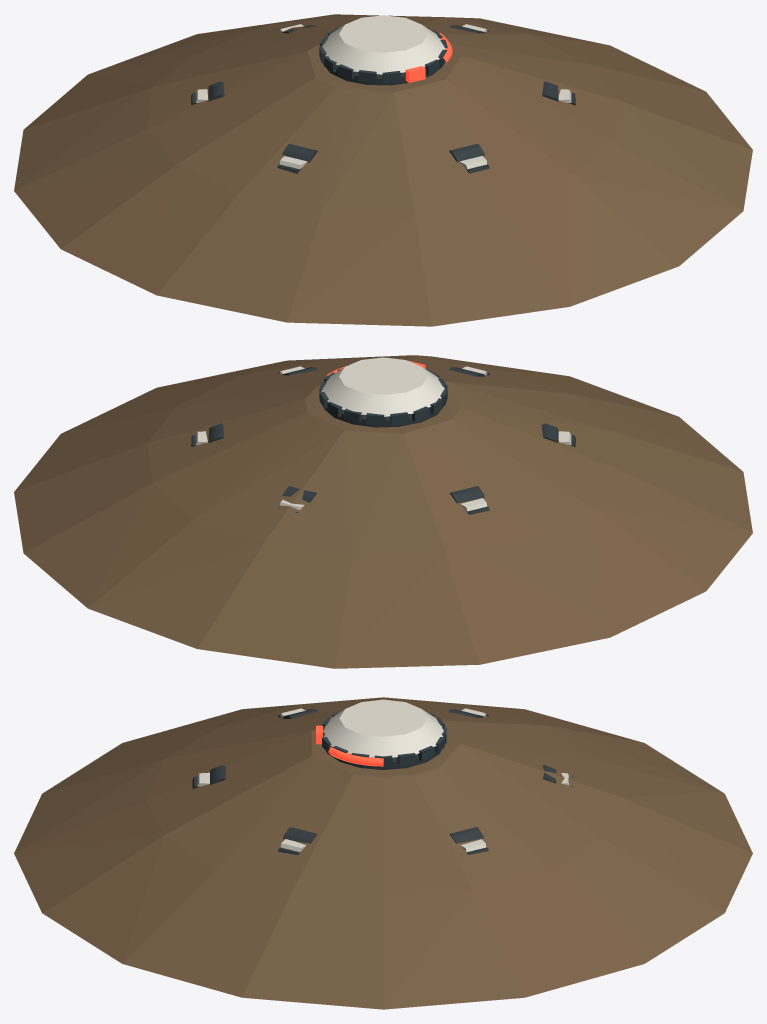
3 renders of one model, top to bottom at view 1: azimuth 30°, elevation 25°; view 2: azimuth 150°, elevation 25°; view 3: azimuth 270°, elevation 25°, orthographic.
Visible parts, largest first — view 1: mine-mound-fleet-soil, mine-chassis-fleet-armor, mine-chassis-fleet-glass, mine-knee-1-painted, mine-knee-2-painted; view 2: mine-mound-fleet-soil, mine-chassis-fleet-armor, mine-chassis-fleet-glass, mine-knee-3-painted, mine-chassis-fleet-machine; view 3: mine-mound-fleet-soil, mine-chassis-fleet-armor, mine-chassis-fleet-glass, mine-knee-0-painted, mine-knee-5-painted, mine-scanner-fleet-scanner.
Part boxes in pixels (box(x1,y1,x2,y2)): mine-mound-fleet-soil: box(14, 14, 752, 326); mine-chassis-fleet-armor: box(322, 15, 445, 74); mine-chassis-fleet-glass: box(319, 26, 447, 82); mine-knee-1-painted: box(449, 144, 489, 173); mine-knee-2-painted: box(277, 144, 317, 173); mine-mound-fleet-soil: box(14, 355, 752, 668); mine-chassis-fleet-armor: box(321, 357, 444, 416); mine-chassis-fleet-glass: box(319, 368, 447, 425); mine-knee-3-painted: box(450, 486, 489, 514); mine-chassis-fleet-machine: box(324, 405, 444, 427); mine-mound-fleet-soil: box(14, 697, 752, 1009); mine-chassis-fleet-armor: box(323, 699, 443, 757); mine-chassis-fleet-glass: box(322, 710, 446, 766); mine-knee-0-painted: box(278, 827, 317, 854); mine-knee-5-painted: box(449, 827, 488, 854); mine-scanner-fleet-scanner: box(316, 725, 383, 766).
Size of the model in its own units: 9.47 by 1.93 by 9.47.
